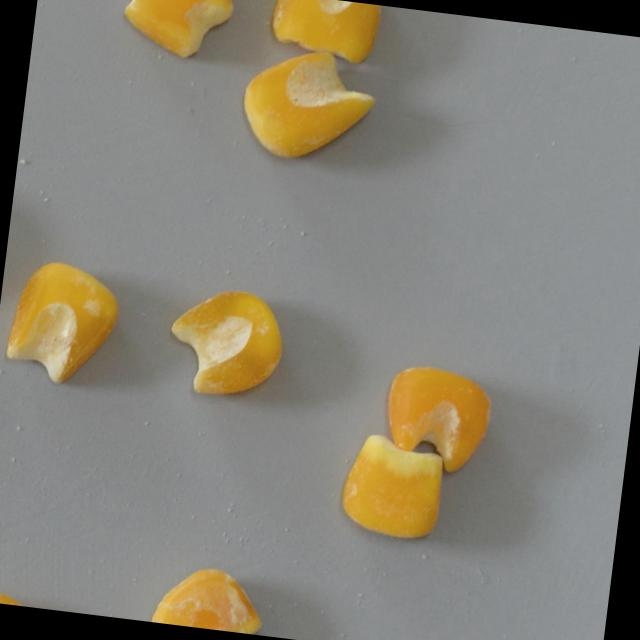dañado: (155, 275, 295, 413), (0, 249, 128, 395), (373, 354, 505, 482), (148, 551, 272, 635), (264, 0, 387, 68), (117, 0, 239, 66), (0, 587, 38, 608)
pelicula: (335, 428, 450, 545)
punto_negro: (232, 39, 384, 173)
